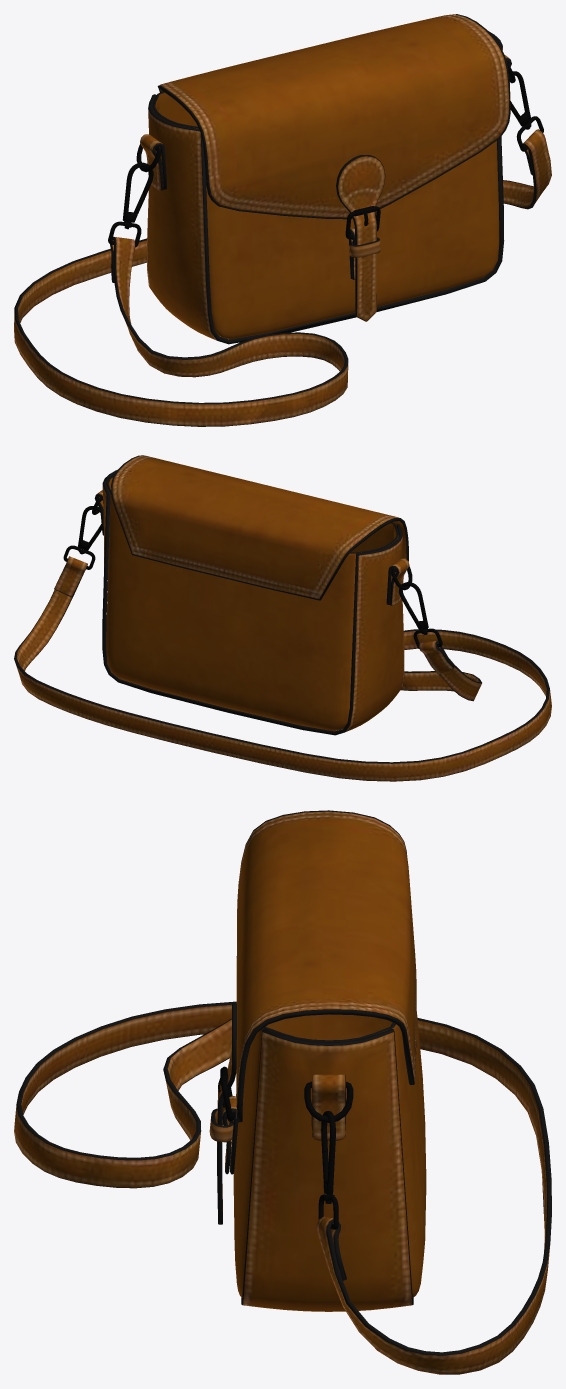
File: Woman_handbag_orange.glb
The picture shows the model from 3 angles, top to bottom: view 1: azimuth 30°, elevation 25°; view 2: azimuth 150°, elevation 25°; view 3: azimuth 270°, elevation 25°; orthographic projection. The views are drawn at different scales.
Parts seen in each view (by area): view 1: Woman_handbag_orange_leather_StaticMeshComponent0, Woman_handbag_orange_metal_StaticMeshComponent0; view 2: Woman_handbag_orange_leather_StaticMeshComponent0, Woman_handbag_orange_metal_StaticMeshComponent0; view 3: Woman_handbag_orange_leather_StaticMeshComponent0, Woman_handbag_orange_metal_StaticMeshComponent0.
Part boxes in pixels (<box>): Woman_handbag_orange_leather_StaticMeshComponent0: <box>14,14,551,426</box>; Woman_handbag_orange_metal_StaticMeshComponent0: <box>108,63,543,247</box>; Woman_handbag_orange_leather_StaticMeshComponent0: <box>14,455,551,781</box>; Woman_handbag_orange_metal_StaticMeshComponent0: <box>63,497,442,648</box>; Woman_handbag_orange_leather_StaticMeshComponent0: <box>14,810,551,1374</box>; Woman_handbag_orange_metal_StaticMeshComponent0: <box>218,1066,353,1229</box>.
Size of the model in its own units: 0.4595 by 0.1924 by 0.2921.
3 materials, 1 textured.
